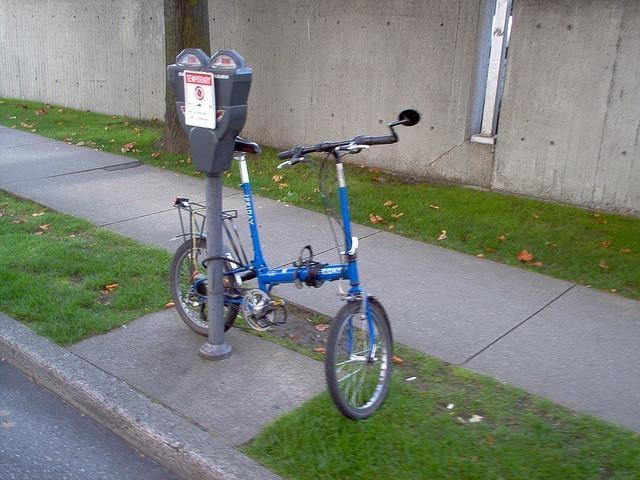bicycle: (170, 110, 423, 420)
